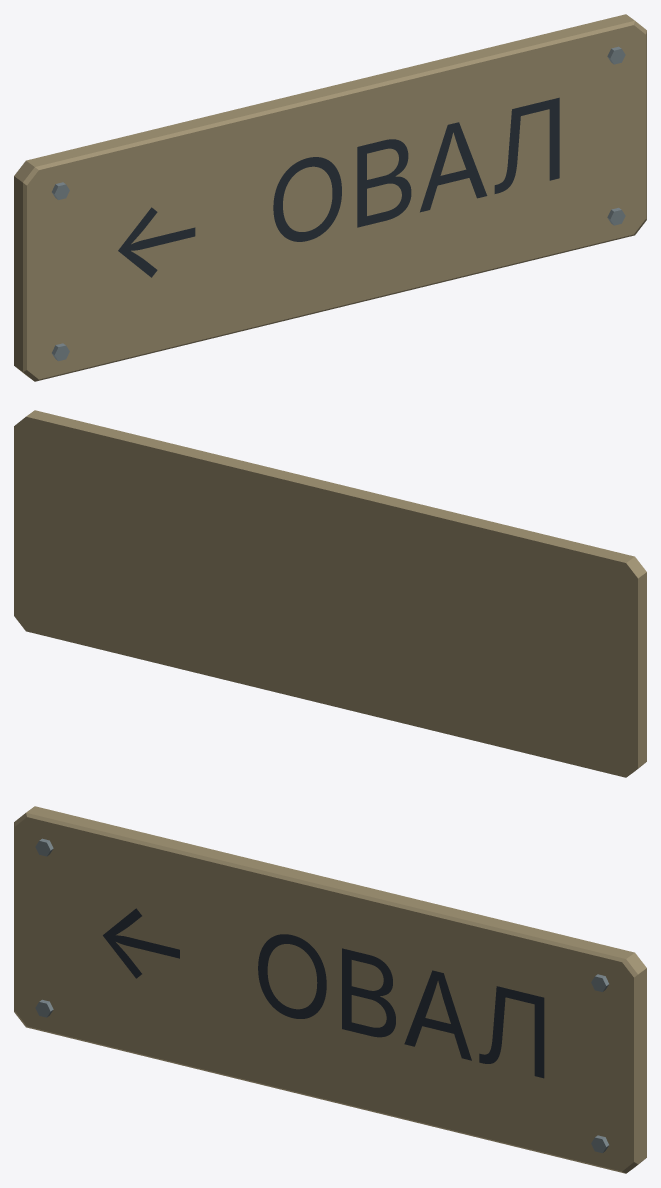
File: R-10_oval_sign.glb
The picture shows the model from 3 angles, top to bottom: view 1: azimuth 30°, elevation 25°; view 2: azimuth 150°, elevation 25°; view 3: azimuth 330°, elevation 25°; orthographic projection.
Parts seen in each view (by area): view 1: R-10_oval_sign; view 2: R-10_oval_sign; view 3: R-10_oval_sign.
Part boxes in pixels (x1=…): R-10_oval_sign: x1=14, y1=14, x2=646, y2=381; R-10_oval_sign: x1=14, y1=410, x2=646, y2=777; R-10_oval_sign: x1=14, y1=806, x2=646, y2=1173.
Size of the model in its own units: 0.73 by 0.24 by 0.0285.
